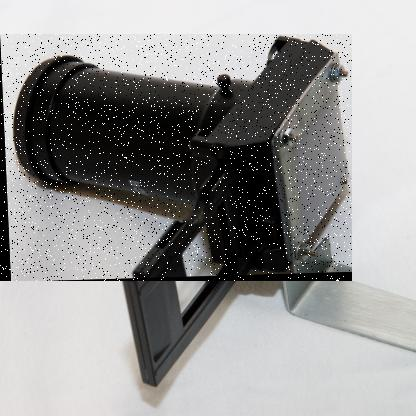Camera: (1, 36, 354, 284)
